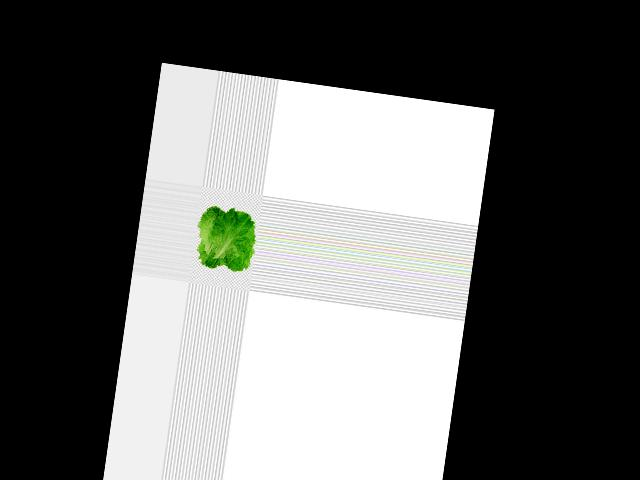lettuce: (190, 199, 261, 278)
